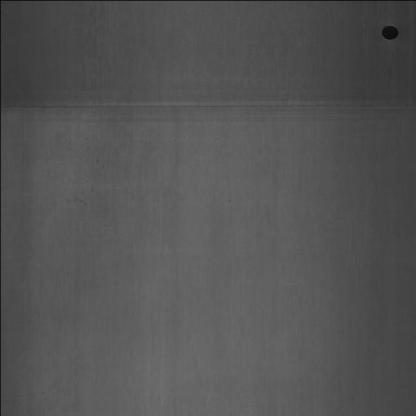punching_hole: (379, 21, 400, 45)
welding_line: (3, 83, 413, 129)
